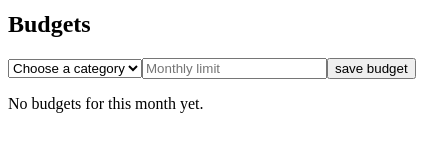
Test: MonthlyBudgetManager › shows a validation error when no category is selected
This screenshot has width=433, height=164.
In the number field with placeholder "Monthly limit": (234, 68) left=142, top=58, right=327, bottom=79, type "75000"
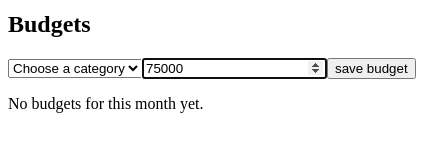
Click the button "save budget": (371, 68) left=327, top=58, right=416, bottom=79
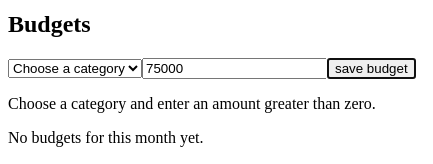
Expected: the message shows "Choose a category", left=8, top=95, right=376, bottom=112
